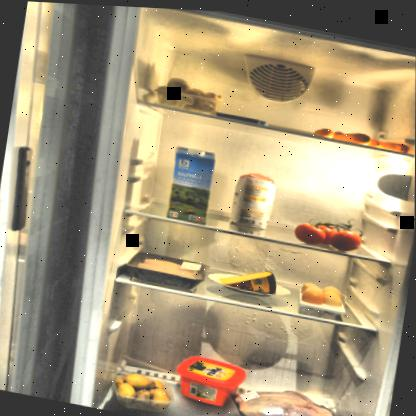butter: (171, 349, 250, 410)
carrot: (310, 118, 414, 149)
cheese: (217, 257, 280, 294)
chicken: (226, 374, 356, 415), (122, 245, 211, 292)
chocolate: (213, 107, 272, 125)
eggs: (295, 276, 351, 310)
milk: (162, 141, 217, 223)
mushrooms: (151, 71, 224, 114)
potato: (109, 367, 176, 414)
tomato: (292, 201, 369, 252)
